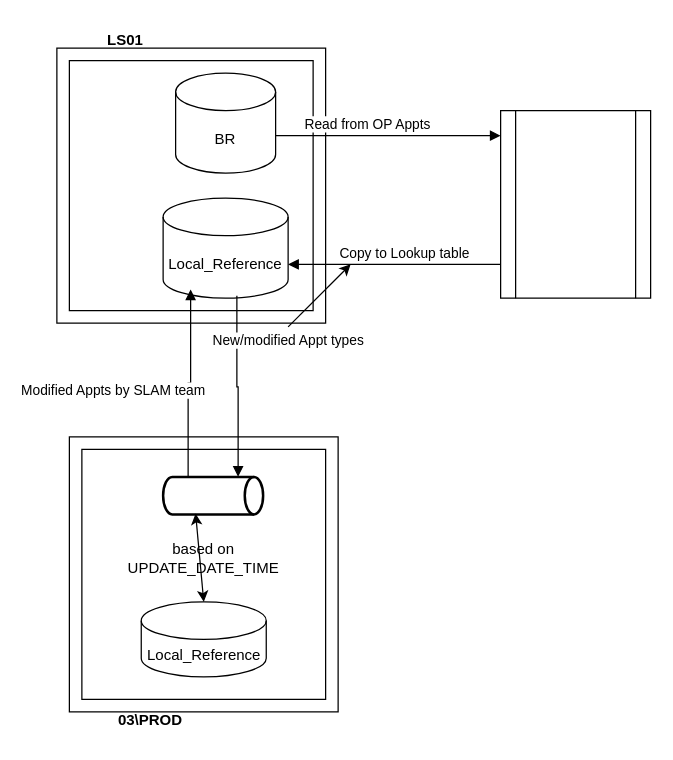
The diagram is 673 pixels wide and 760 high, and some of its shapes have lost their labels. Each missing label, with the centre of its shape:
"Rule on BR Toolbox" belongs at point (575, 203).
"SQL Job" belongs at point (212, 495).
